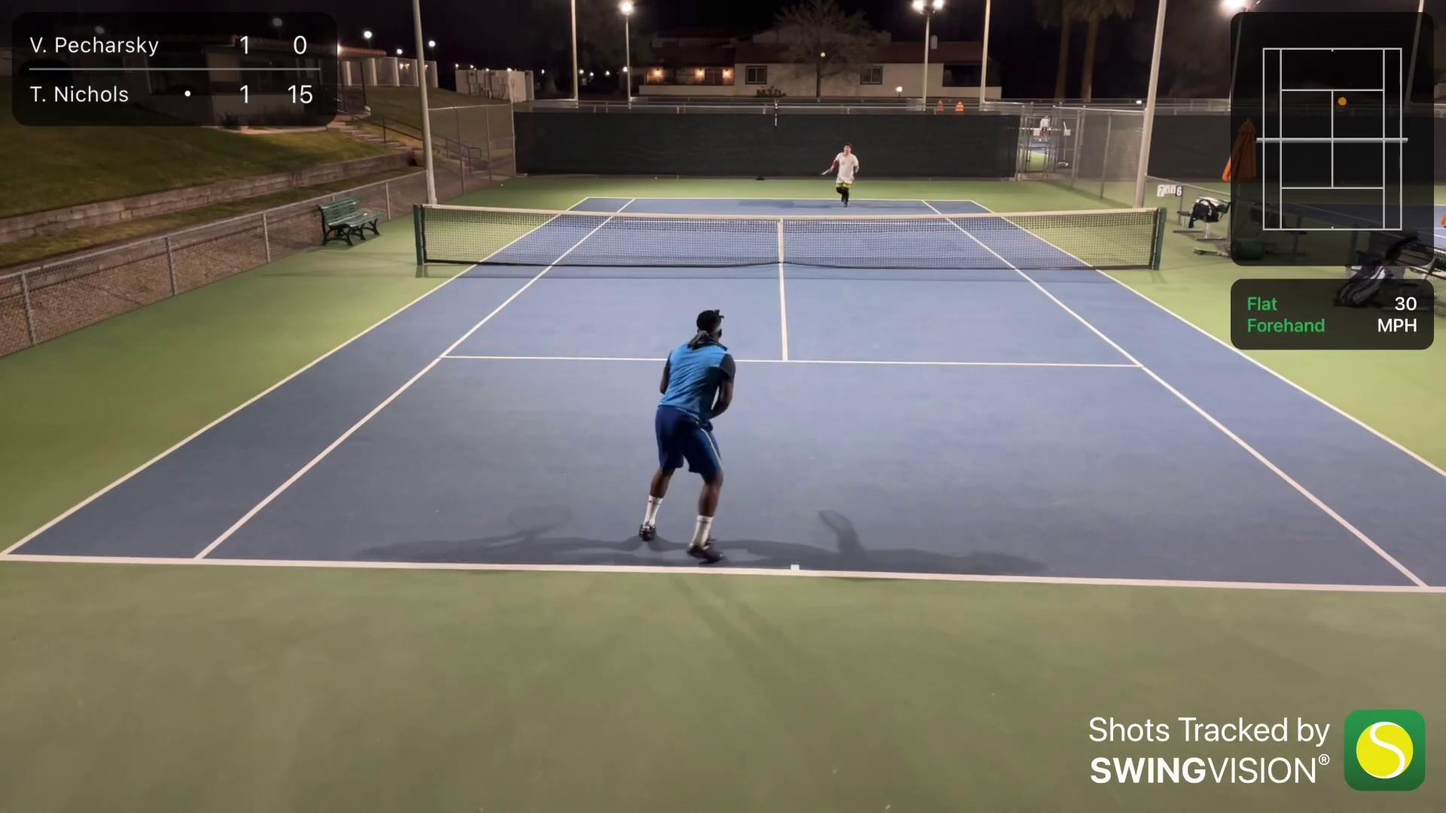ball: (819, 51, 826, 58)
